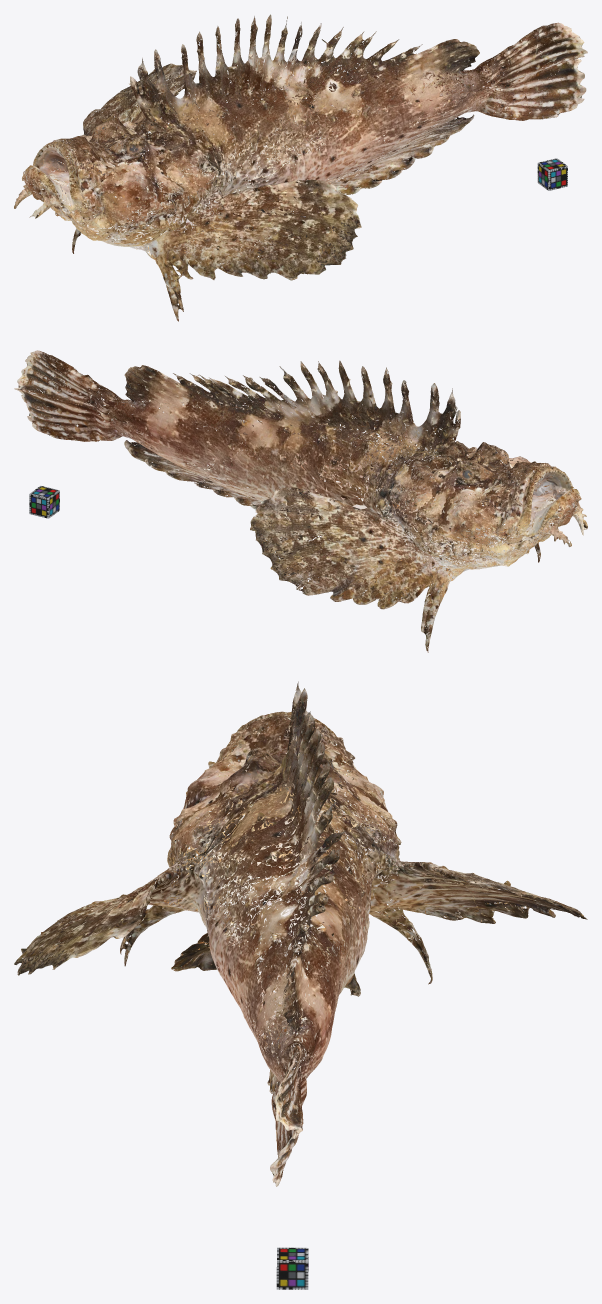
The model's file is scan_stinger.glb.
The picture shows the model from 3 angles, top to bottom: view 1: azimuth 30°, elevation 25°; view 2: azimuth 150°, elevation 25°; view 3: azimuth 270°, elevation 25°; orthographic projection. The views are drawn at different scales.
Visible parts, largest first — view 1: Object_6, Object_13, Object_19, Object_4; view 2: Object_13, Object_6, Object_19, Object_4; view 3: Object_6, Object_19, Object_13, Object_4.
Part boxes in pixels (x1,y1,x2,y2): Object_6: (18,15,578,309); Object_13: (14,14,587,317); Object_19: (14,16,587,321); Object_4: (537,158,567,190); Object_13: (17,350,587,650); Object_6: (21,351,587,646); Object_19: (14,352,587,652); Object_4: (29,485,59,518); Object_6: (14,689,583,1186); Object_19: (18,681,584,1182); Object_13: (15,690,587,1186); Object_4: (276,1247,308,1289).
Size of the model in its own units: 18.13 by 7.24 by 11.32.
4 materials, 4 textured.
